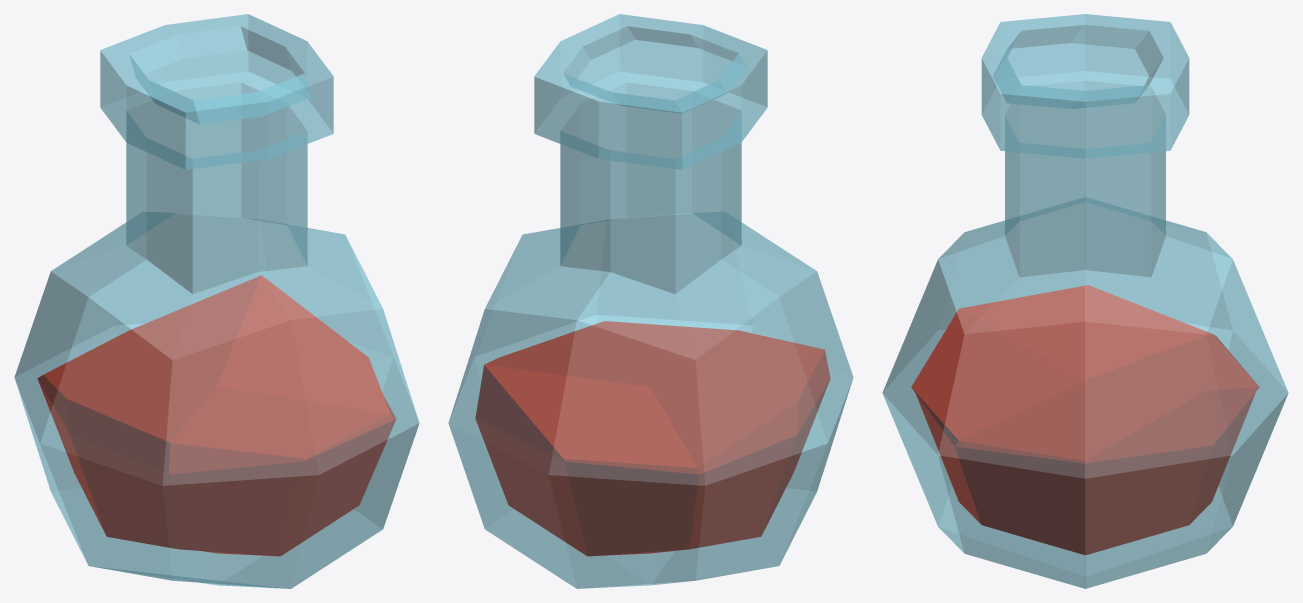
File: Pocion_color.fbx
3 renders of one model, left to right at view 1: azimuth 30°, elevation 25°; view 2: azimuth 150°, elevation 25°; view 3: azimuth 270°, elevation 25°, orthographic.
Parts seen in each view (by area): view 1: Pocion, Pocion.001; view 2: Pocion, Pocion.001; view 3: Pocion, Pocion.001.
Boxes of the visible parts, bbox=[...] form: Pocion: bbox=[14, 14, 419, 588]; Pocion.001: bbox=[37, 275, 396, 556]; Pocion: bbox=[448, 14, 853, 588]; Pocion.001: bbox=[475, 321, 830, 556]; Pocion: bbox=[882, 14, 1288, 588]; Pocion.001: bbox=[911, 285, 1259, 554].
Bounding box in the file's own units: 9.37 × 13.22 × 9.37.
